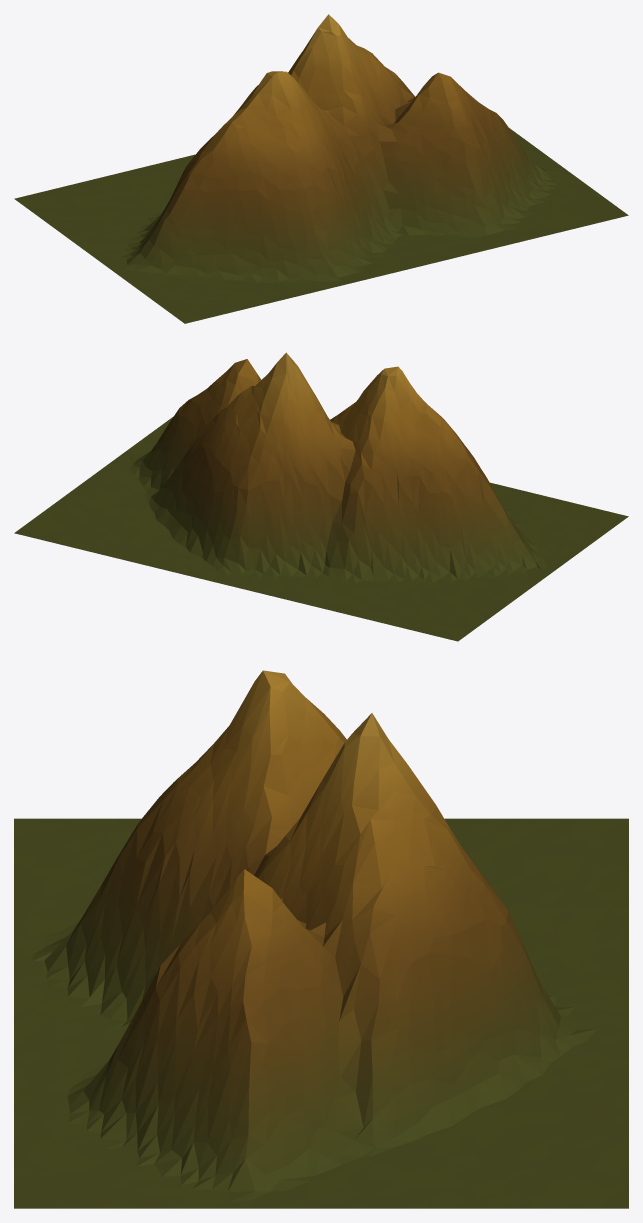
File: RockPeak_B.fbx
3 views of the same model, one above another, from view 1: azimuth 30°, elevation 25°; view 2: azimuth 150°, elevation 25°; view 3: azimuth 270°, elevation 25° (orthographic). The views are drawn at different scales.
Visible parts, largest first — view 1: RockPeak_B; view 2: RockPeak_B; view 3: RockPeak_B.
Boxes of the visible parts, x1,y1,x2,y2 form: RockPeak_B: (14, 14, 628, 323); RockPeak_B: (14, 352, 628, 641); RockPeak_B: (14, 670, 628, 1208).
Size of the model in its own units: 1800 by 688 by 1200.
